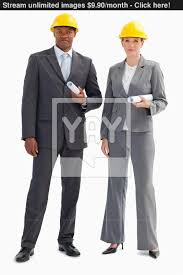Person_wearing_helmet: (46, 10, 81, 40), (114, 20, 151, 47)
